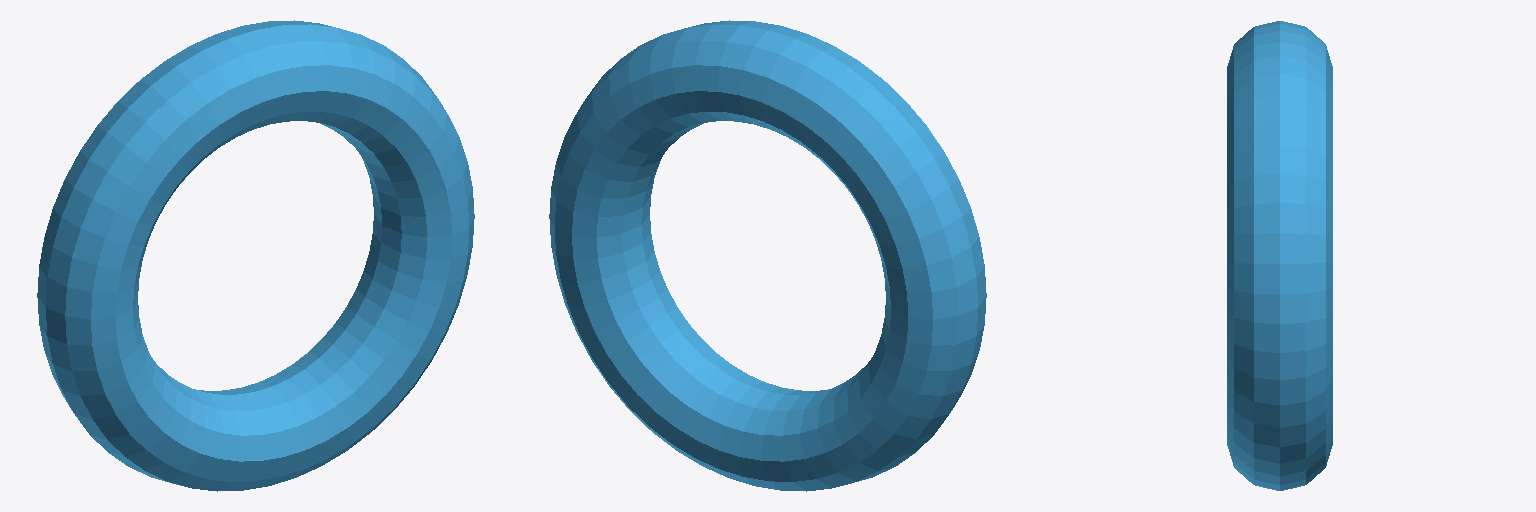
The robot description file, URDF, robot "generated_robot":
<robot name="generated_robot">
    <link name="hanoi_small_base" />
    <link name="hanoi_small">
        <visual name="door_frame-6">
            <origin xyz="0 0 0 " />
            <geometry>
                <mesh filename="hanoi_small.obj" />
            </geometry>
        </visual>
        <collision>
            <origin xyz="0 0 0 " />
            <geometry>
                <mesh filename="hanoi_small_collision.obj" />
            </geometry>
        </collision>
    </link>    
    <joint name="joint_0" type="fixed">
        <origin xyz="0 0 0" />
        <axis xyz="0 -1 0" />
        <child link="hanoi_small_base" />
        <parent link="hanoi_small" />
    </joint>
</robot>

--- What the picture shows (computed from the rendered views, not written in the file) ---
Views: 3 orthographic renders of the robot side by side, from view 1: azimuth 30°, elevation 25°; view 2: azimuth 150°, elevation 25°; view 3: azimuth 270°, elevation 25°.
Model generated_robot with 2 links and 1 joints (1 fixed), rooted at hanoi_small, posed all joints at 0.
Visible links, largest first — view 1: hanoi_small; view 2: hanoi_small; view 3: hanoi_small.
Boxes of the visible links, x1,y1,x2,y2 form: hanoi_small: [37, 20, 474, 491]; hanoi_small: [549, 20, 986, 491]; hanoi_small: [1227, 21, 1332, 490].
Bounding box of the posed robot: 0.8563 × 0.1962 × 0.8788 m (x, y, z).
1 mesh visuals loaded from 1 distinct referenced files (1 OBJ).